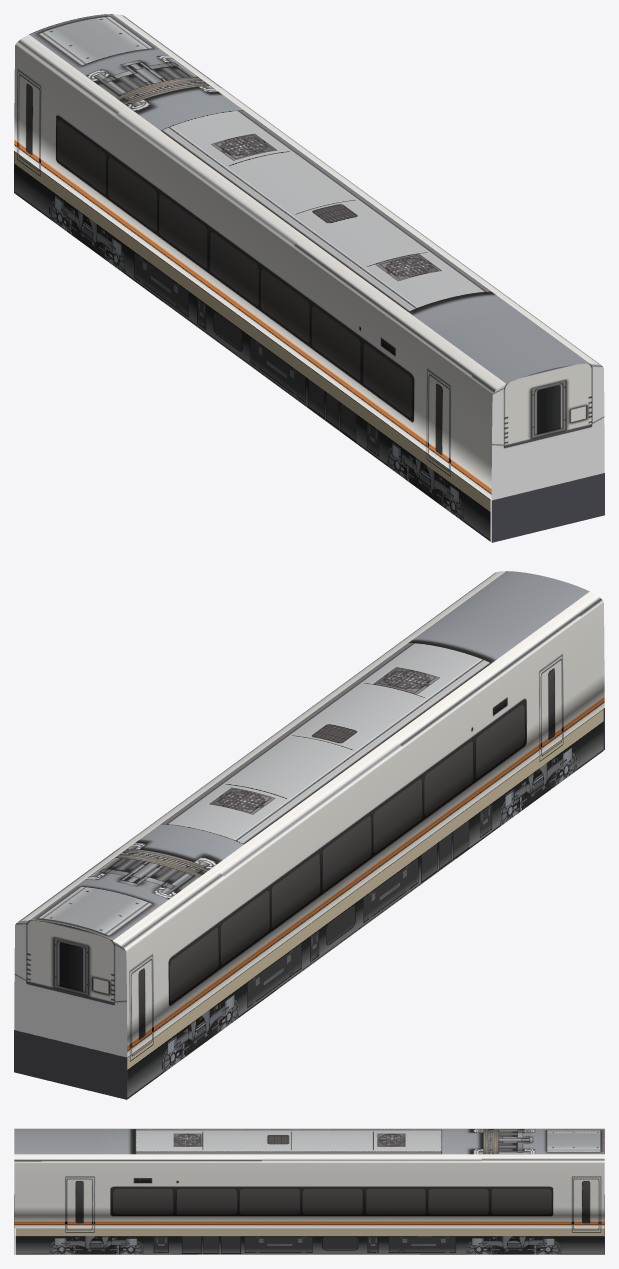
File: car3.glb
3 views of the same model, one above another, from view 1: azimuth 30°, elevation 25°; view 2: azimuth 150°, elevation 25°; view 3: azimuth 270°, elevation 25° (orthographic). The views are drawn at different scales.
Parts seen in each view (by area): view 1: kintetsu-21020-car3; view 2: kintetsu-21020-car3; view 3: kintetsu-21020-car3.
Boxes of the visible parts, x1,y1,x2,y2 form: kintetsu-21020-car3: [14, 14, 604, 542]; kintetsu-21020-car3: [14, 571, 604, 1099]; kintetsu-21020-car3: [14, 1128, 604, 1254].
Size of the model in its own units: 2.8 by 3.77 by 20.53.
Materials: 8 (7 with a texture image).
